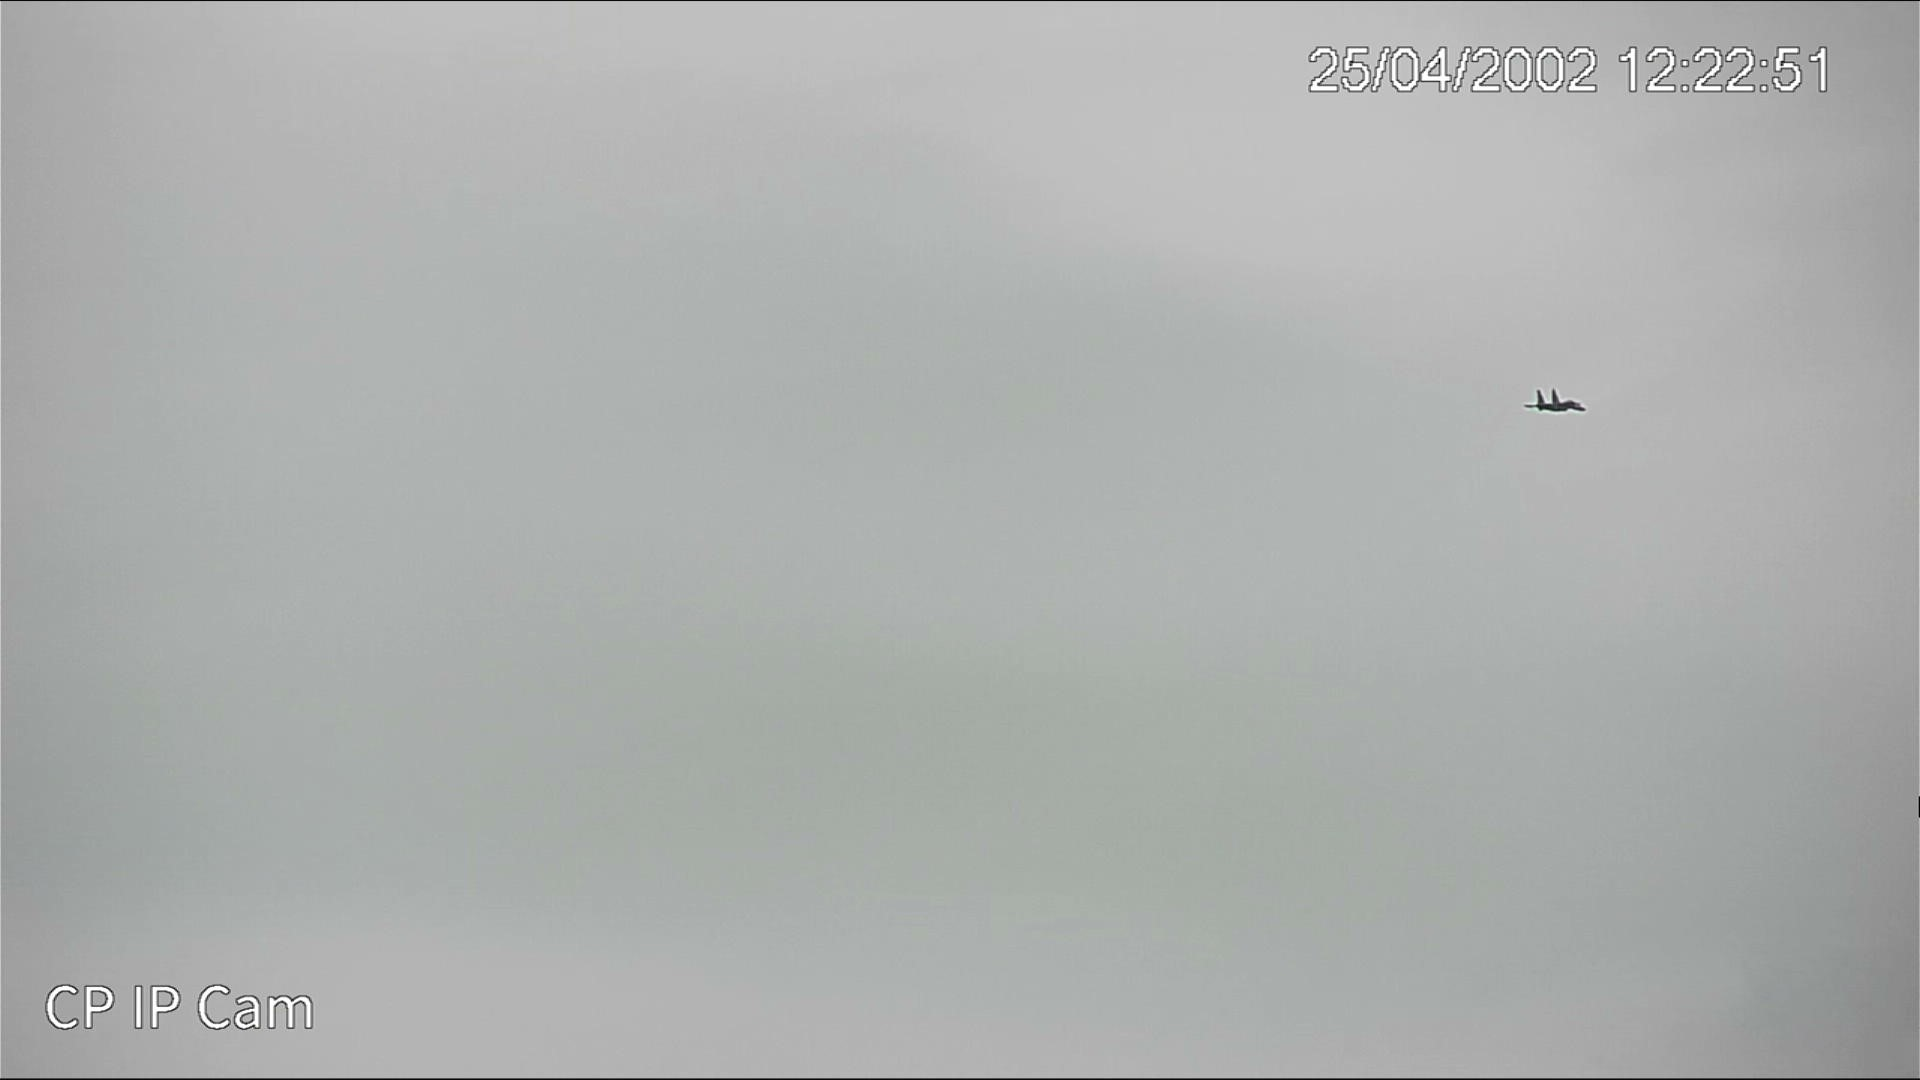SU_30: (1523, 392, 1577, 418)
